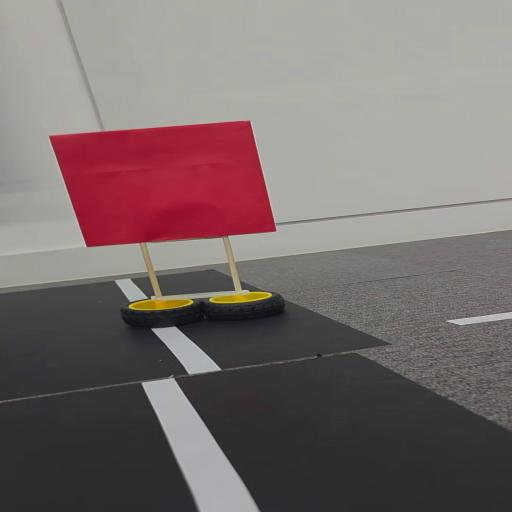Sign_A: (36, 118, 294, 330)
